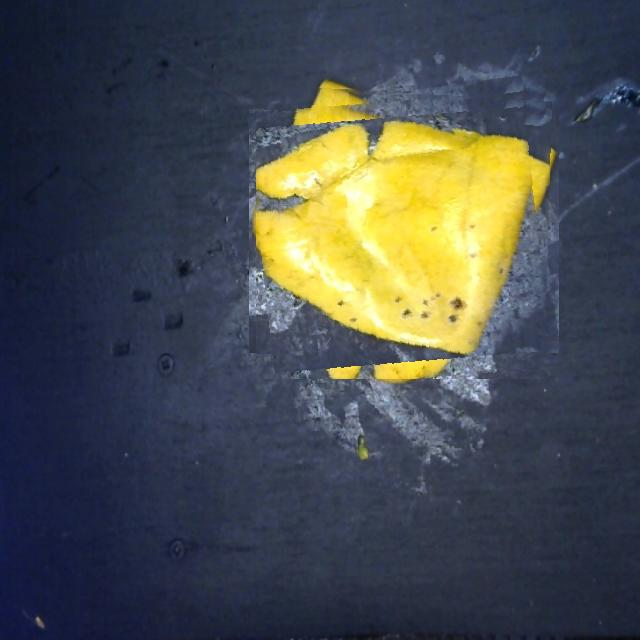biodegradable: (256, 84, 552, 379)
